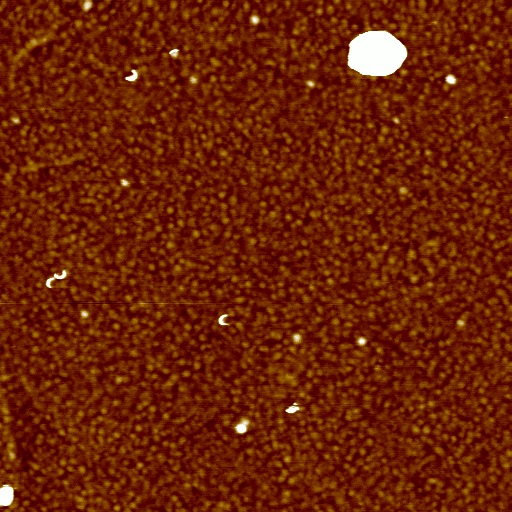-1: (345, 27, 409, 79), (1, 481, 14, 509), (233, 419, 249, 439), (283, 402, 301, 417), (444, 71, 458, 84), (167, 46, 180, 58)
2/4: (121, 66, 138, 84), (40, 275, 57, 291), (52, 267, 71, 281), (216, 312, 230, 327)
